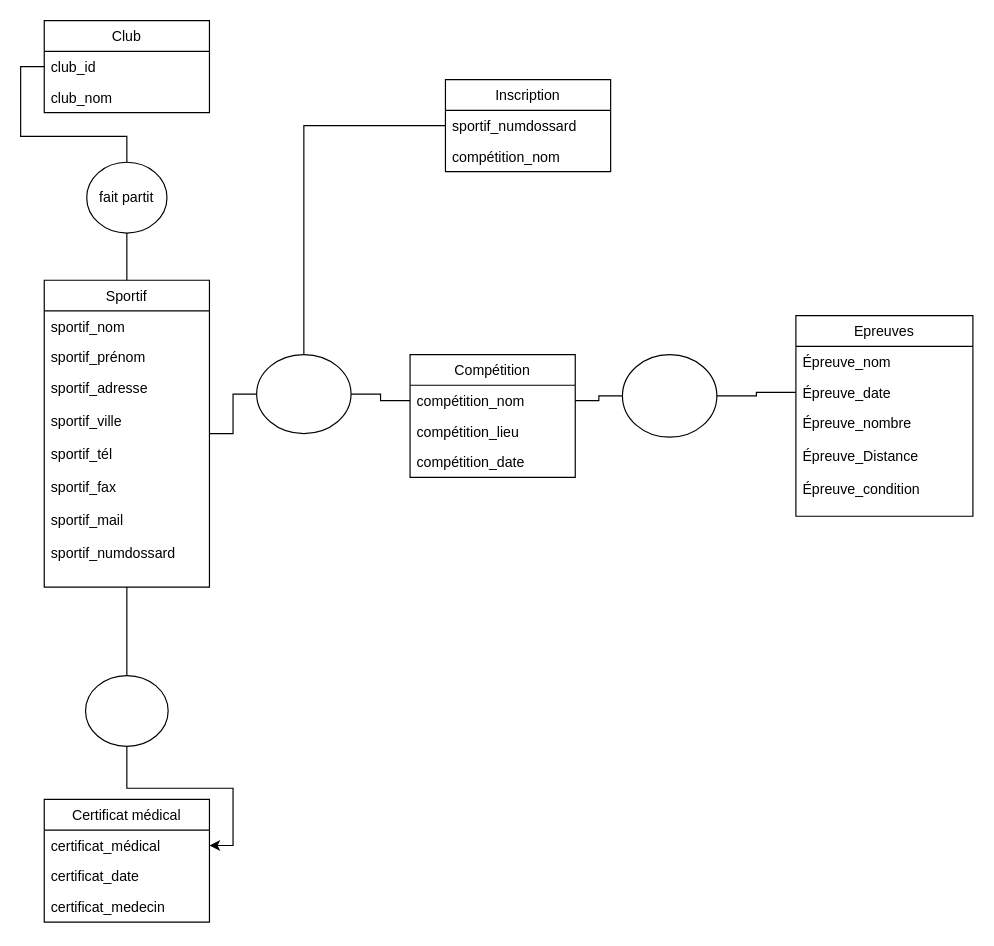
Image size: 994x946. Some labels were removed from this diagram. The centre of each missing label's shape, as x and y in pixels:
font partit: (x=669, y=395)
possède un: (x=126, y=710)
s'inscrit: (x=303, y=393)
